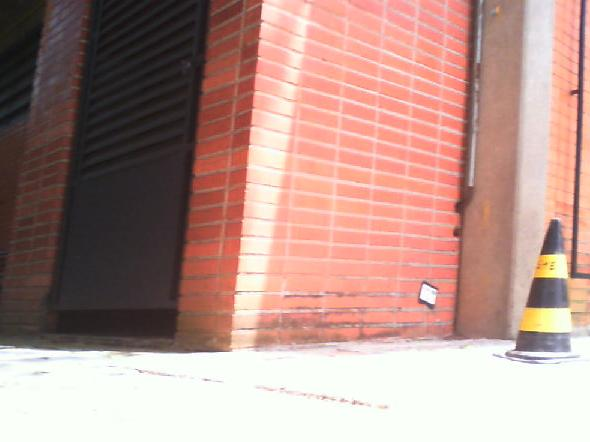0 cone: (492, 219, 581, 364)
